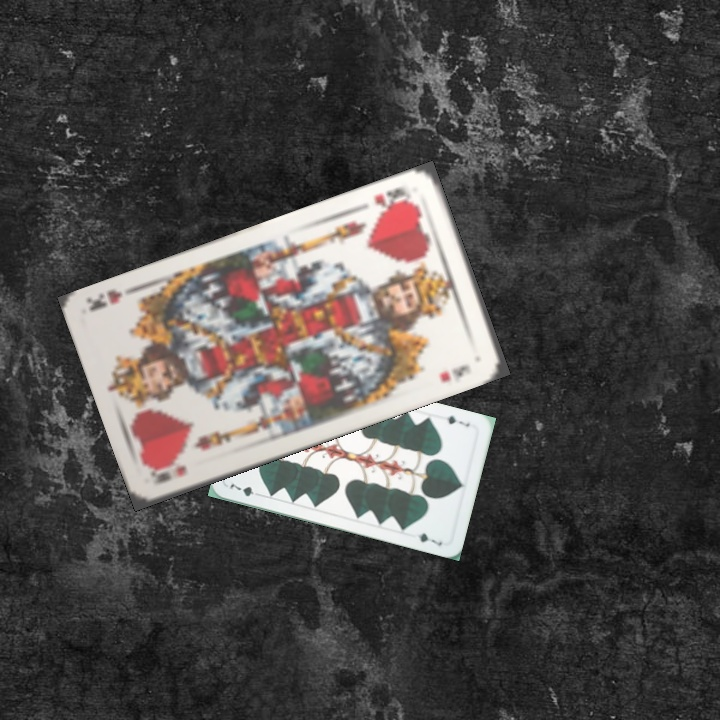G7: (225, 479, 265, 499), (443, 411, 472, 429)
HK: (369, 183, 416, 215), (147, 460, 190, 486)
